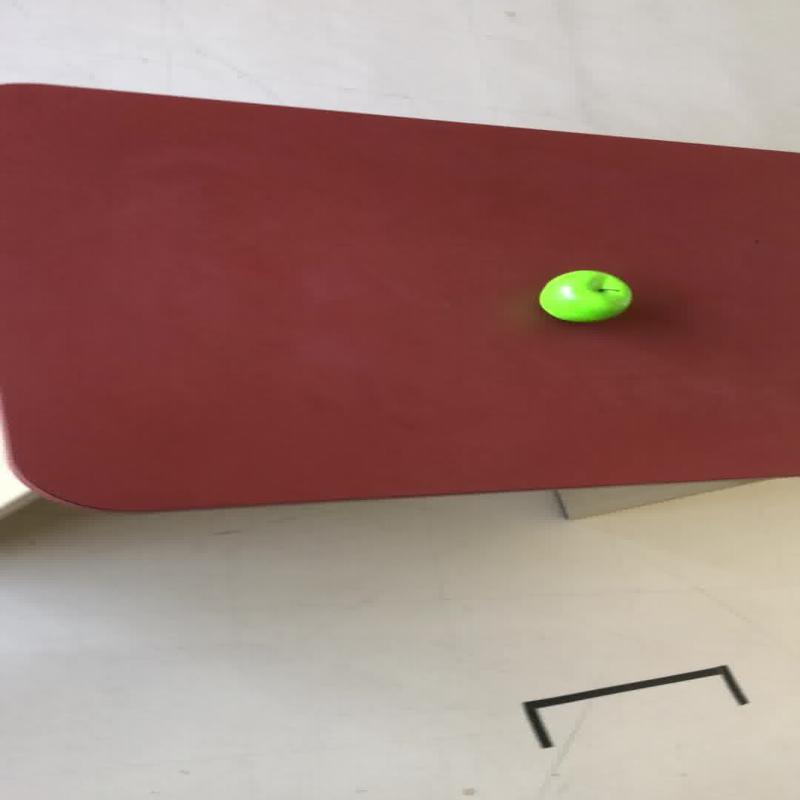apple: (536, 268, 632, 322)
